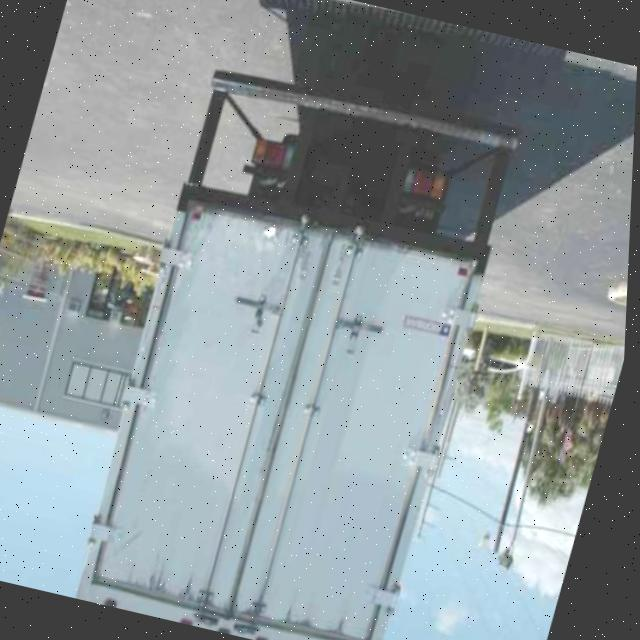truck: (71, 55, 532, 640)
